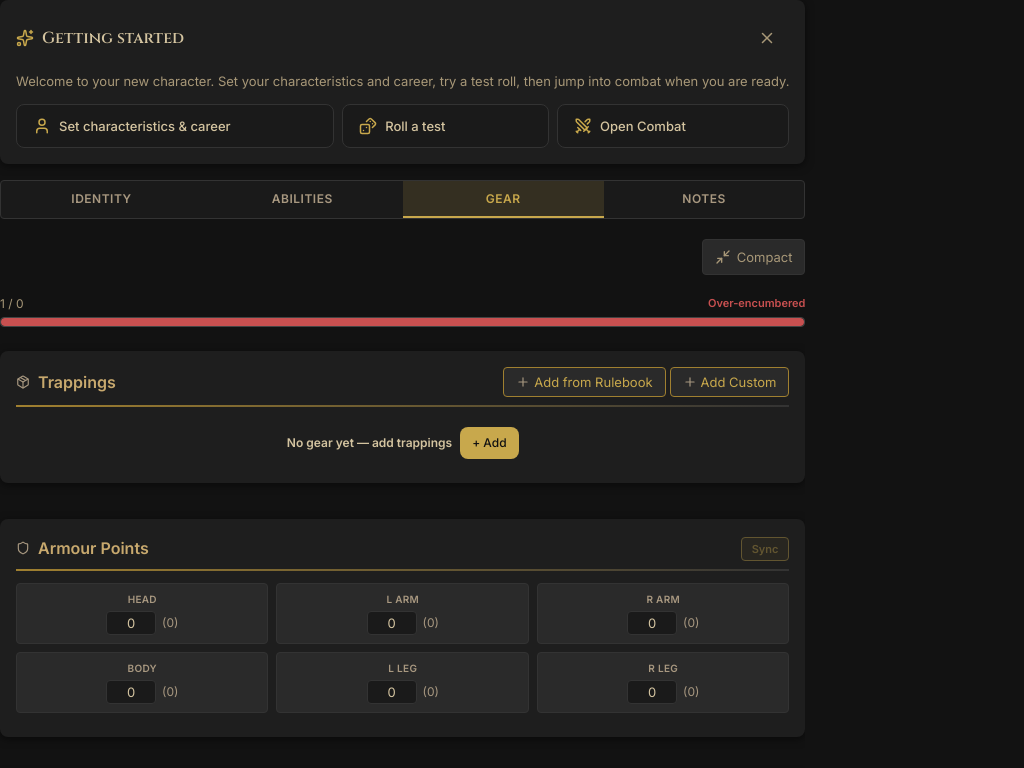
Scenario: CharacterPage Deposit_Control (wealth-treasury-transfer Task 9) › after a deposit the displayed coin weight equals calculateCoinWeight(newWealth) (Req 5.1)
Click the tab "Gear" at x=503, y=199, box [403,180,604,218]
(page scrolled)
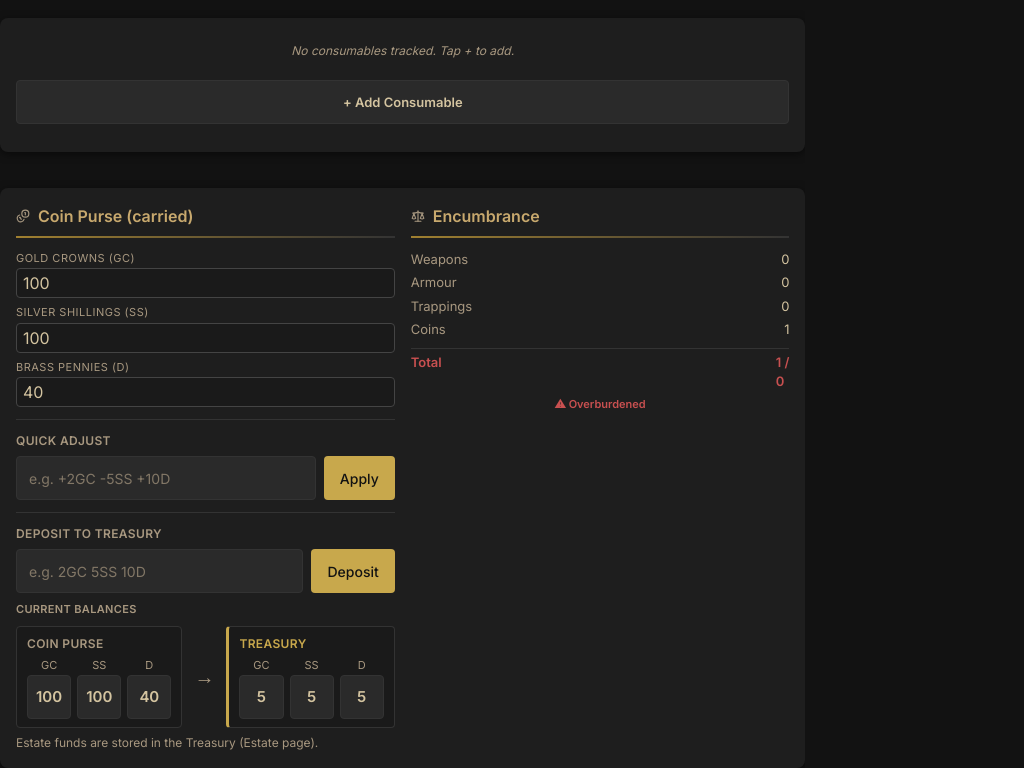
Expected: the button named "Coin weight breakdown" reads "1", [784,320,790,340]
Type "100SS 40D" into the field named "Deposit amount" at x=160, y=571, box [16,549,304,593]
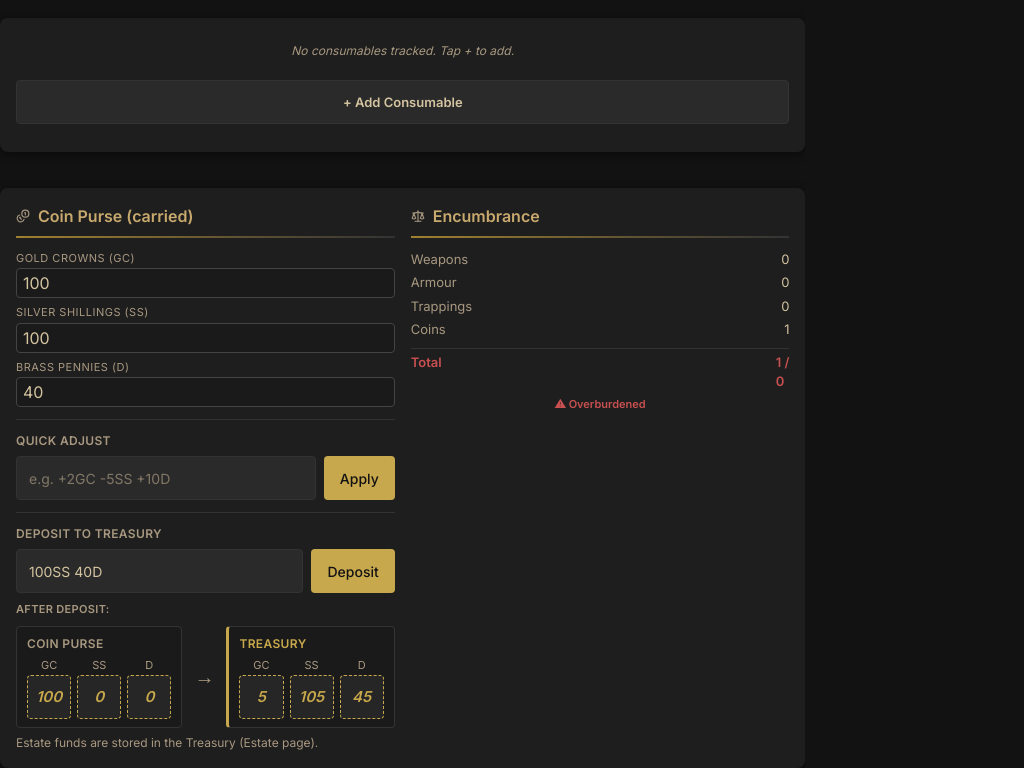
Click the button "Deposit" at x=353, y=571, box [312,549,395,593]
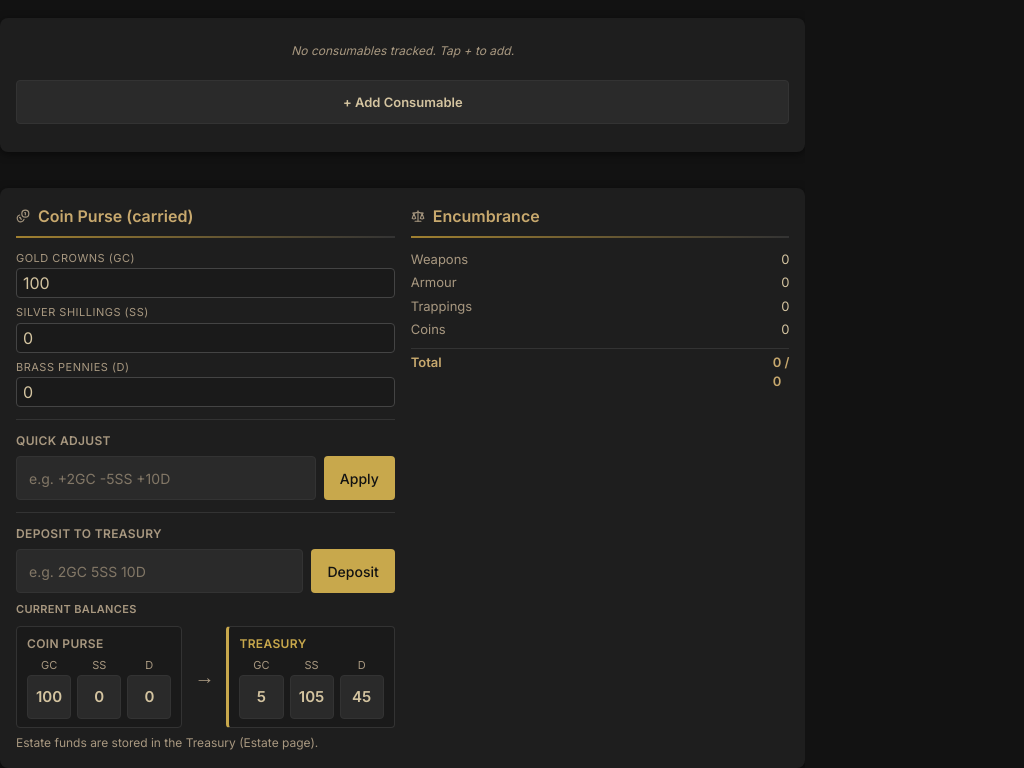
Expected: the button named "Coin weight breakdown" reads "0", [781,320,790,340]
